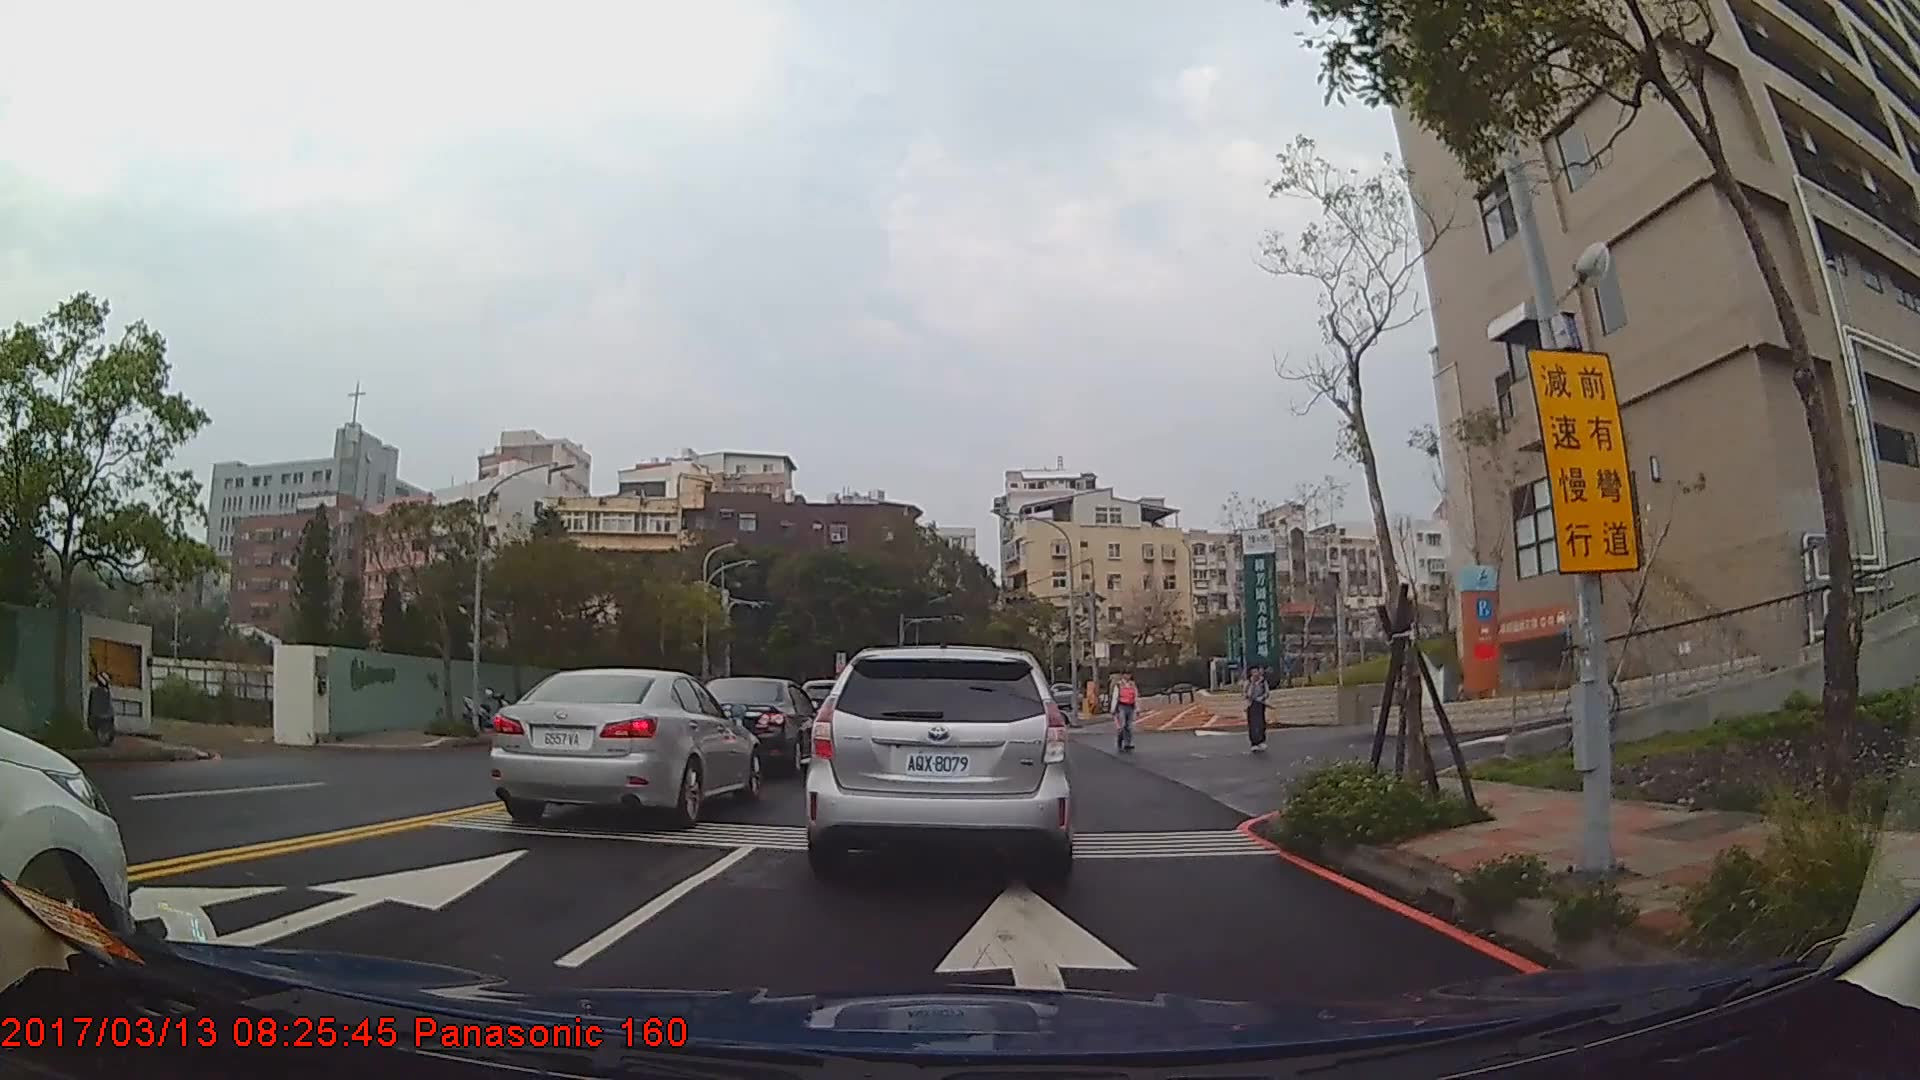pedestrian: (1110, 670, 1141, 755), (1244, 668, 1270, 756)
vehicle: (805, 644, 1074, 877), (489, 666, 760, 826), (691, 675, 821, 776)
